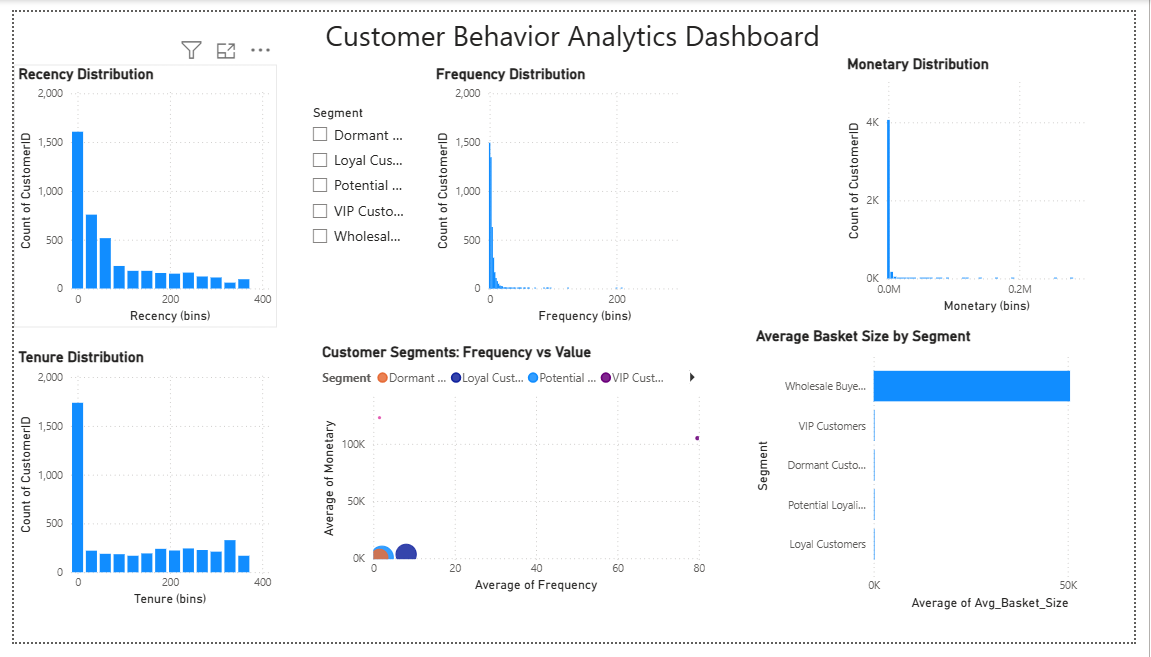

The dashboard page shown, as its layout file describes it:
{"tool":"powerbi","page":{"name":"Customer Behavior Analytics","canvas":[1280,720],"ordinal":2},"visuals":[{"type":"textbox","box":[327.9,0,619.8,68.6],"z":0},{"type":"clusteredColumnChart","title":"Recency Distribution","fields":{"Category":["segmented_customers.Recency (bins)"],"Y":["CountNonNull(segmented_customers.CustomerID)"]},"box":[0,60.5,300,300],"z":1},{"type":"clusteredColumnChart","title":"Frequency Distribution","fields":{"Category":["segmented_customers.Frequency (bins)"],"Y":["CountNonNull(segmented_customers.CustomerID)"]},"box":[476.7,60.5,300,300],"z":2},{"type":"clusteredColumnChart","title":"Monetary Distribution","fields":{"Category":["segmented_customers.Monetary (bins)"],"Y":["CountNonNull(segmented_customers.CustomerID)"]},"box":[947.7,48.8,296.5,300],"z":3},{"type":"clusteredColumnChart","title":"Tenure Distribution","fields":{"Category":["segmented_customers.Tenure (bins)"],"Y":["CountNonNull(segmented_customers.CustomerID)"]},"box":[0,383.7,300,300],"z":4},{"type":"scatterChart","title":"Customer Segments: Frequency vs Value","fields":{"X":["Avg(segmented_customers.Frequency)"],"Y":["Avg(segmented_customers.Monetary)"],"Size":["CountNonNull(segmented_customers.CustomerID)"],"Category":["segmented_customers.Segment"],"Series":["segmented_customers.Segment"]},"box":[347.7,377.9,447.7,289.5],"z":5},{"type":"clusteredBarChart","title":"Average Basket Size by Segment","fields":{"Category":["segmented_customers.Segment"],"Y":["Avg(segmented_customers.Avg_Basket_Size)"]},"box":[843,360.5,420.9,327.9],"z":6},{"type":"slicer","fields":{"Values":["segmented_customers.Segment"]},"box":[328.6,101.4,125.7,194.3],"z":7}]}

Visuals, with their boxes in screenshot pixels (x1, y1, x2, y2), scaled from the page's 1280x720 canvas onto the 1151x657 screenshot:
textbox: (295,0,852,63)
"Recency Distribution" clusteredColumnChart: (0,55,270,329)
"Frequency Distribution" clusteredColumnChart: (429,55,698,329)
"Monetary Distribution" clusteredColumnChart: (852,45,1119,318)
"Tenure Distribution" clusteredColumnChart: (0,350,270,624)
"Customer Segments: Frequency vs Value" scatterChart: (313,345,715,609)
"Average Basket Size by Segment" clusteredBarChart: (758,329,1137,628)
slicer - segmented_customers.Segment: (295,93,409,270)
